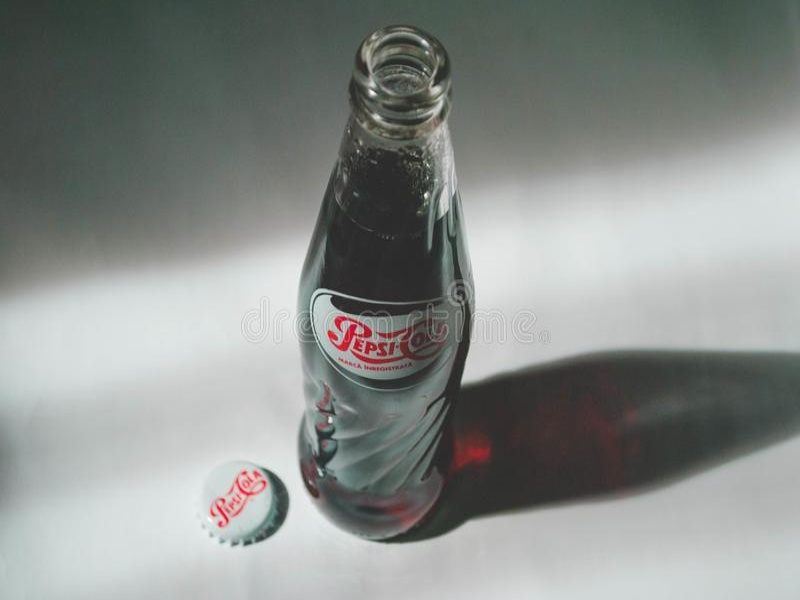Glass bottle: (272, 8, 486, 574)
